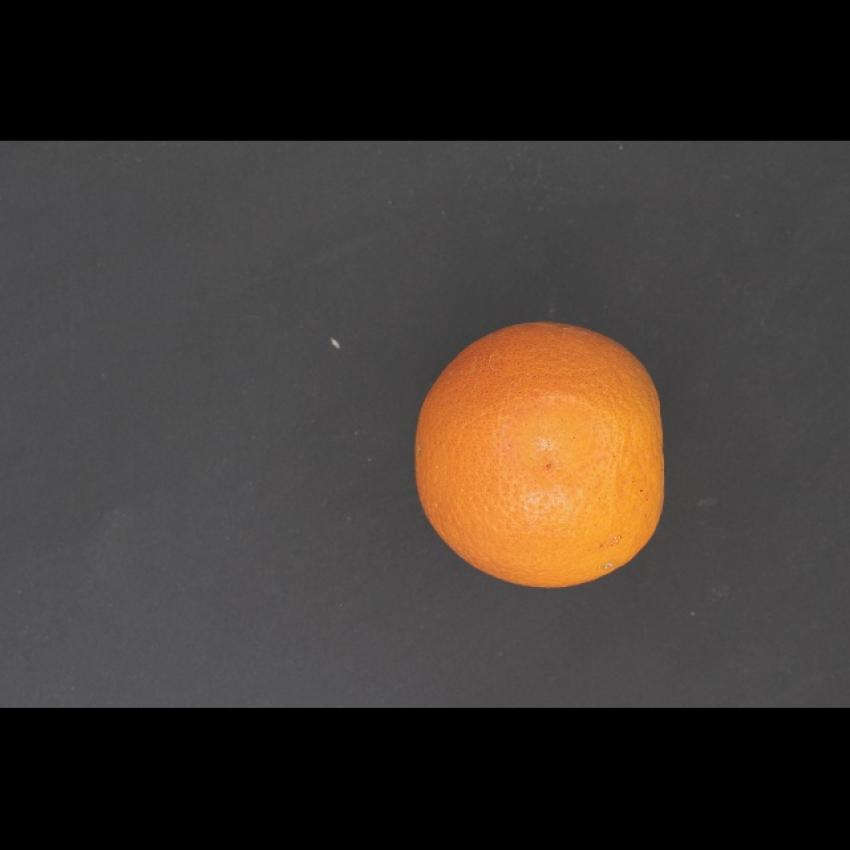Mal estado: (404, 311, 680, 596)
